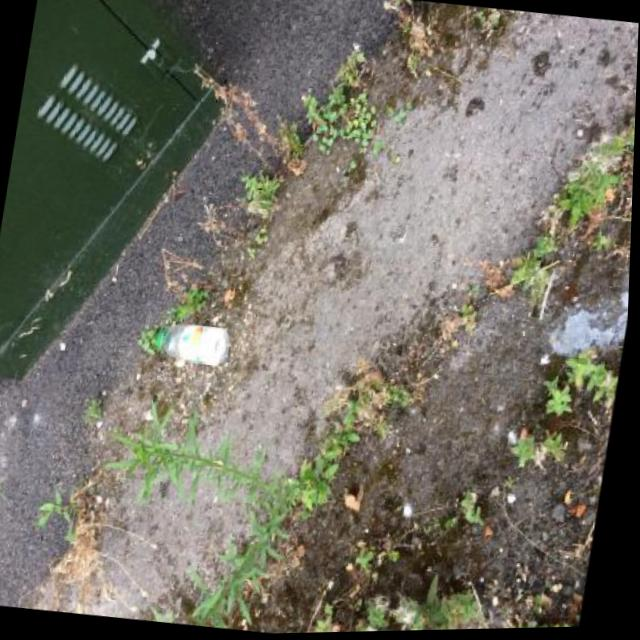plastic: (152, 318, 234, 369)
